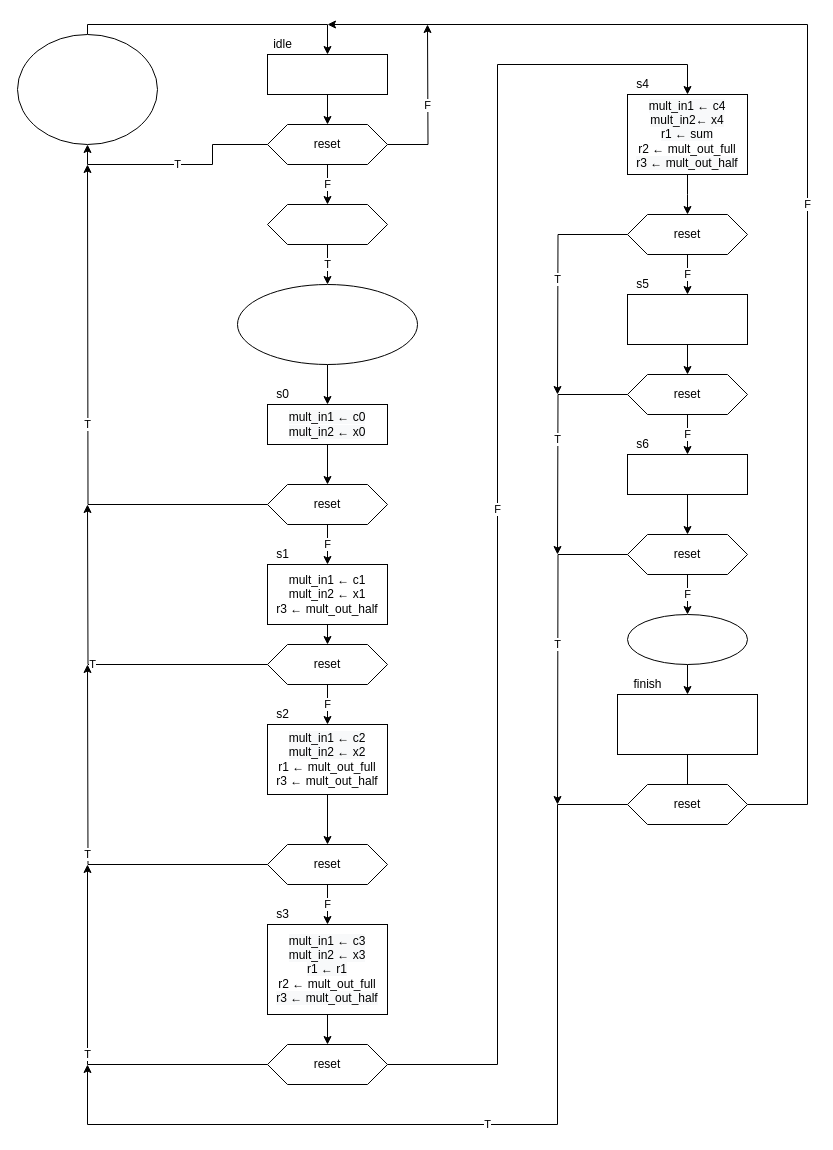
Image size: 833x1150. Some labels were removed from this diagram. Each missing label, with the box of its shape:
r1 ← sum r2 ← mult_out_full: (626, 454, 748, 494)
r1 ← sum r2 ← mult_out_full r3 ← mult_out_half: (626, 294, 748, 344)
r1 ← sum r2 ← mult_out_full sample_out_ready <= '1': (616, 694, 758, 754)
sample_in_enable: (266, 204, 388, 244)
sample_out <= sum: (626, 614, 748, 664)
sample_out ← 0 x0 ← 0 x1 ← 0 x2 ← 0 x3 ← 0 x4 ← 0: (16, 34, 158, 144)
x0 ← sample_in x1 ← x0 x2 ← x1 x3 ← x2 x4 ← x3: (236, 284, 418, 364)
